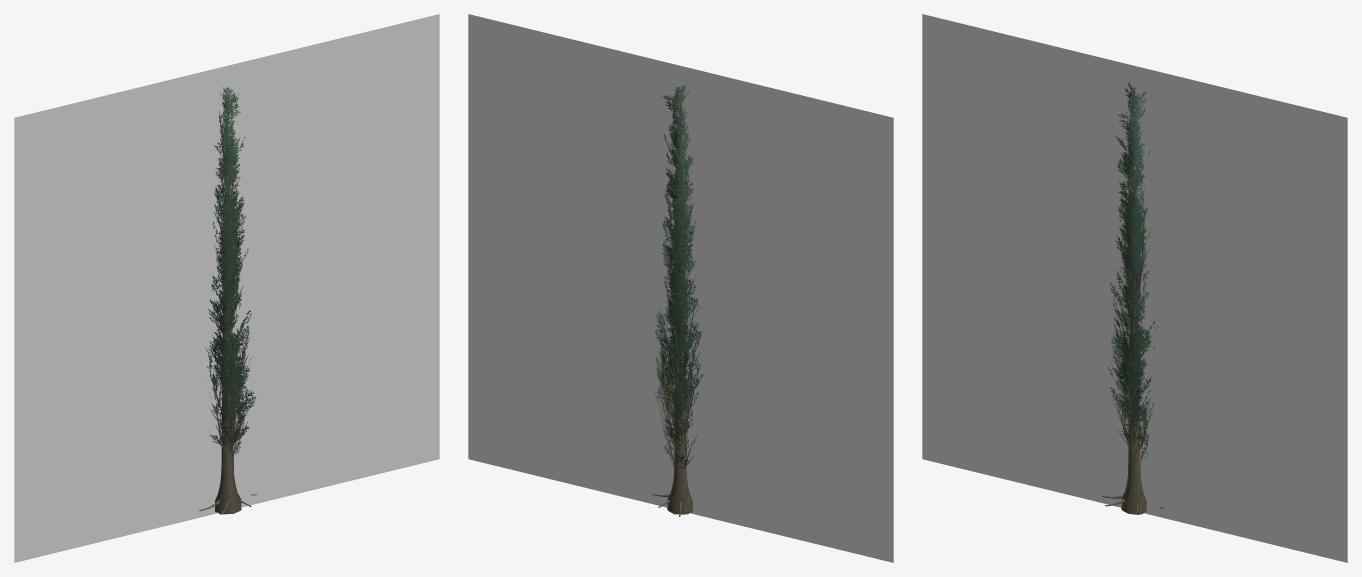
File: cypres_adulte_b.fbx
3 views of the same model, side by side, from view 1: azimuth 30°, elevation 25°; view 2: azimuth 150°, elevation 25°; view 3: azimuth 330°, elevation 25° (orthographic).
Visible parts, largest first — view 1: cypres_adulte_b_LOD3, cypres_adulte_b_LOD1, cypres_adulte_b_LOD2; view 2: cypres_adulte_b_LOD3, cypres_adulte_b_LOD1, cypres_adulte_b_LOD2; view 3: cypres_adulte_b_LOD3, cypres_adulte_b_LOD1, cypres_adulte_b_LOD2.
Part boxes in pixels (<box>): cypres_adulte_b_LOD3: <box>14,14,439,562</box>; cypres_adulte_b_LOD1: <box>199,87,256,514</box>; cypres_adulte_b_LOD2: <box>209,86,254,513</box>; cypres_adulte_b_LOD3: <box>468,14,893,562</box>; cypres_adulte_b_LOD1: <box>652,87,704,516</box>; cypres_adulte_b_LOD2: <box>656,84,699,514</box>; cypres_adulte_b_LOD3: <box>922,14,1347,562</box>; cypres_adulte_b_LOD1: <box>1102,87,1163,514</box>; cypres_adulte_b_LOD2: <box>1113,82,1155,514</box>.
Size of what is drawn, in the model's own units: 13.9 by 13.9 by 1.82.
